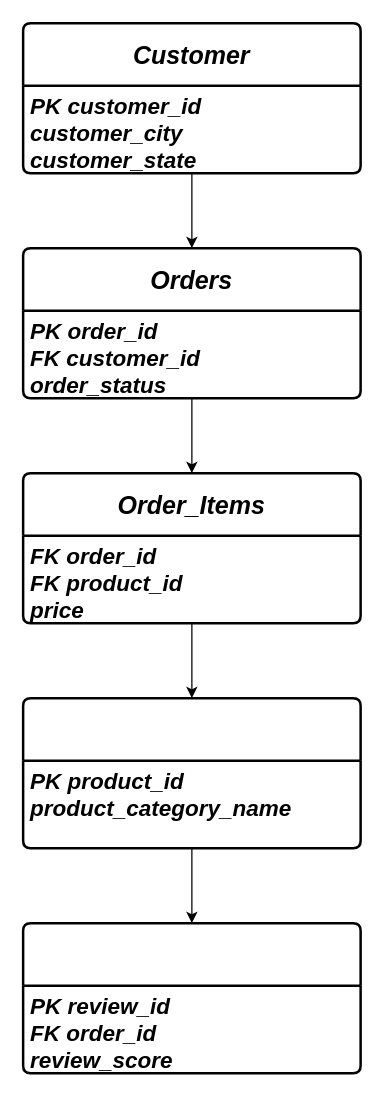
Some shapes in this 383 by 1096 pixel diagram are drawn without their labels. The box of each missing label's shape, as (x1, y1, x2, y2) in pixels:
Order_Reviews: (21, 921, 361, 1074)
Products: (21, 696, 361, 849)
